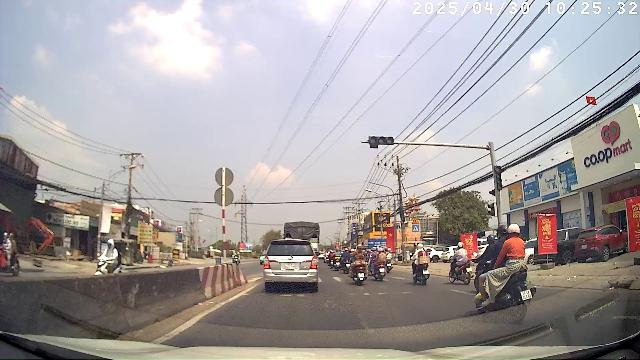423a-duong-nguoi-di-bo-sang-ngang-1: (413, 224, 419, 232)
